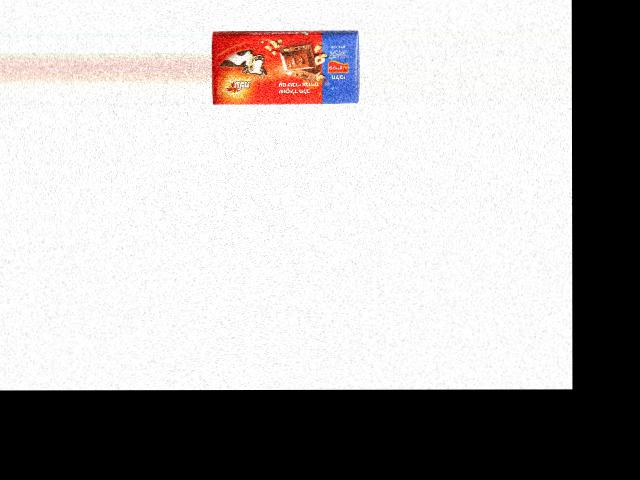chocolate: (212, 24, 357, 103)
